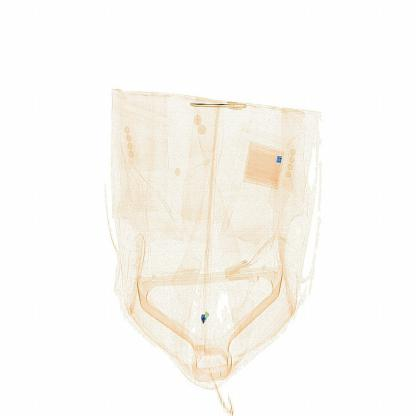wrench: (183, 95, 250, 120)
